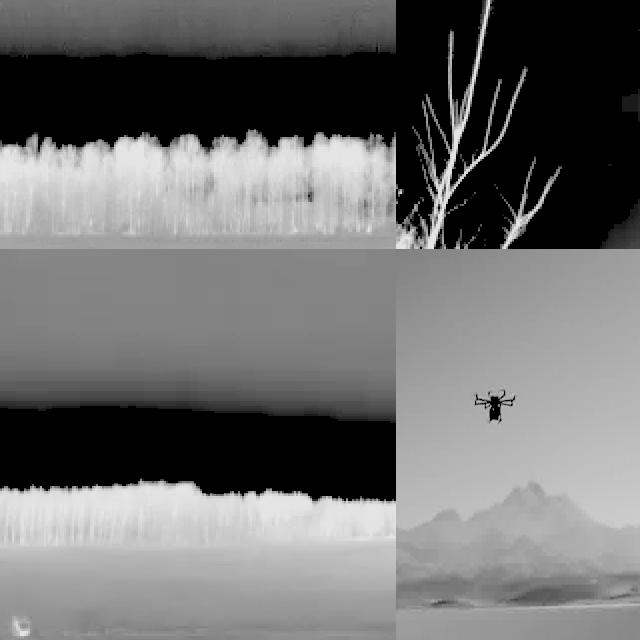drone: (472, 385, 520, 427)
